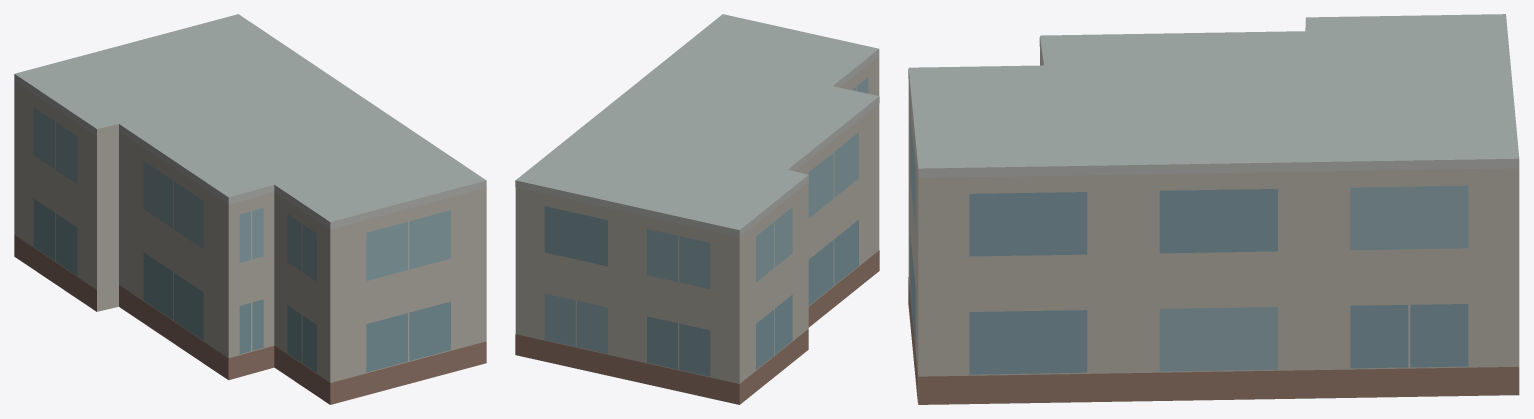
Rendered from survey-upis-32686050.glb.
3 views of the same model, side by side, from view 1: azimuth 30°, elevation 25°; view 2: azimuth 150°, elevation 25°; view 3: azimuth 270°, elevation 25° (orthographic). The views are drawn at different scales.
Parts seen in each view (by area): view 1: survey-upis-32686050.tmp; view 2: survey-upis-32686050.tmp; view 3: survey-upis-32686050.tmp.
Boxes of the visible parts, box(x1,y1,x2,y2) form: survey-upis-32686050.tmp: box(14, 14, 486, 404); survey-upis-32686050.tmp: box(515, 14, 879, 404); survey-upis-32686050.tmp: box(908, 14, 1519, 404).
Size of the model in its own units: 8.57 by 6.1 by 14.3.
